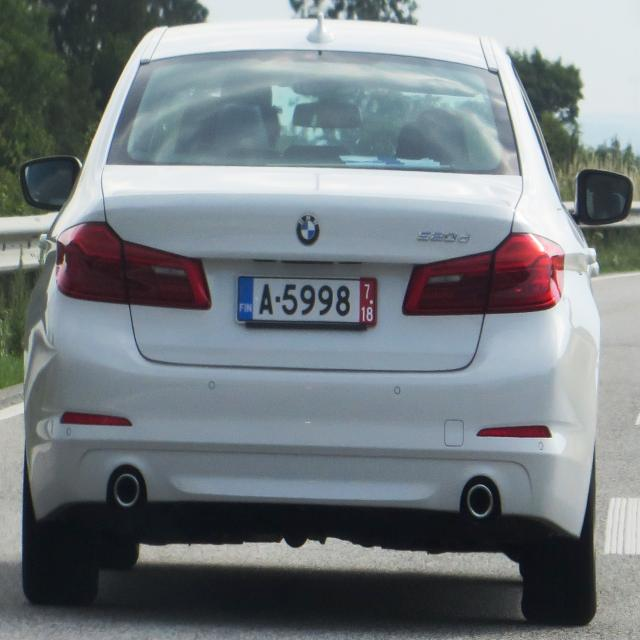license: (231, 267, 387, 339)
